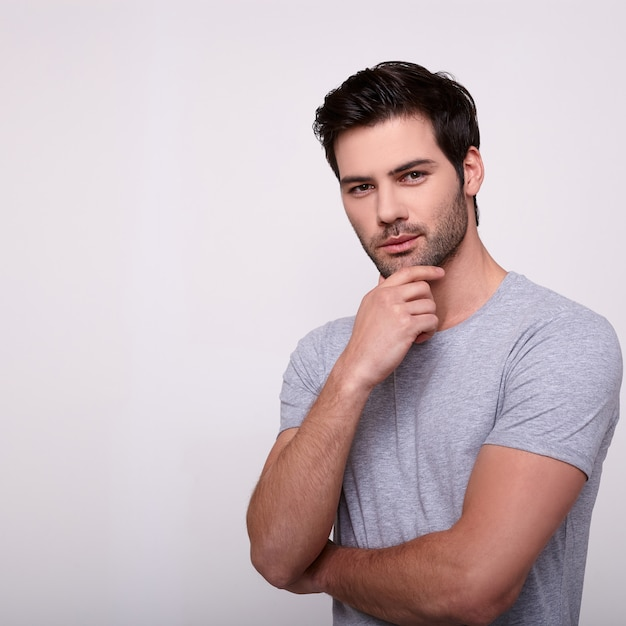young: (308, 31, 486, 315)
